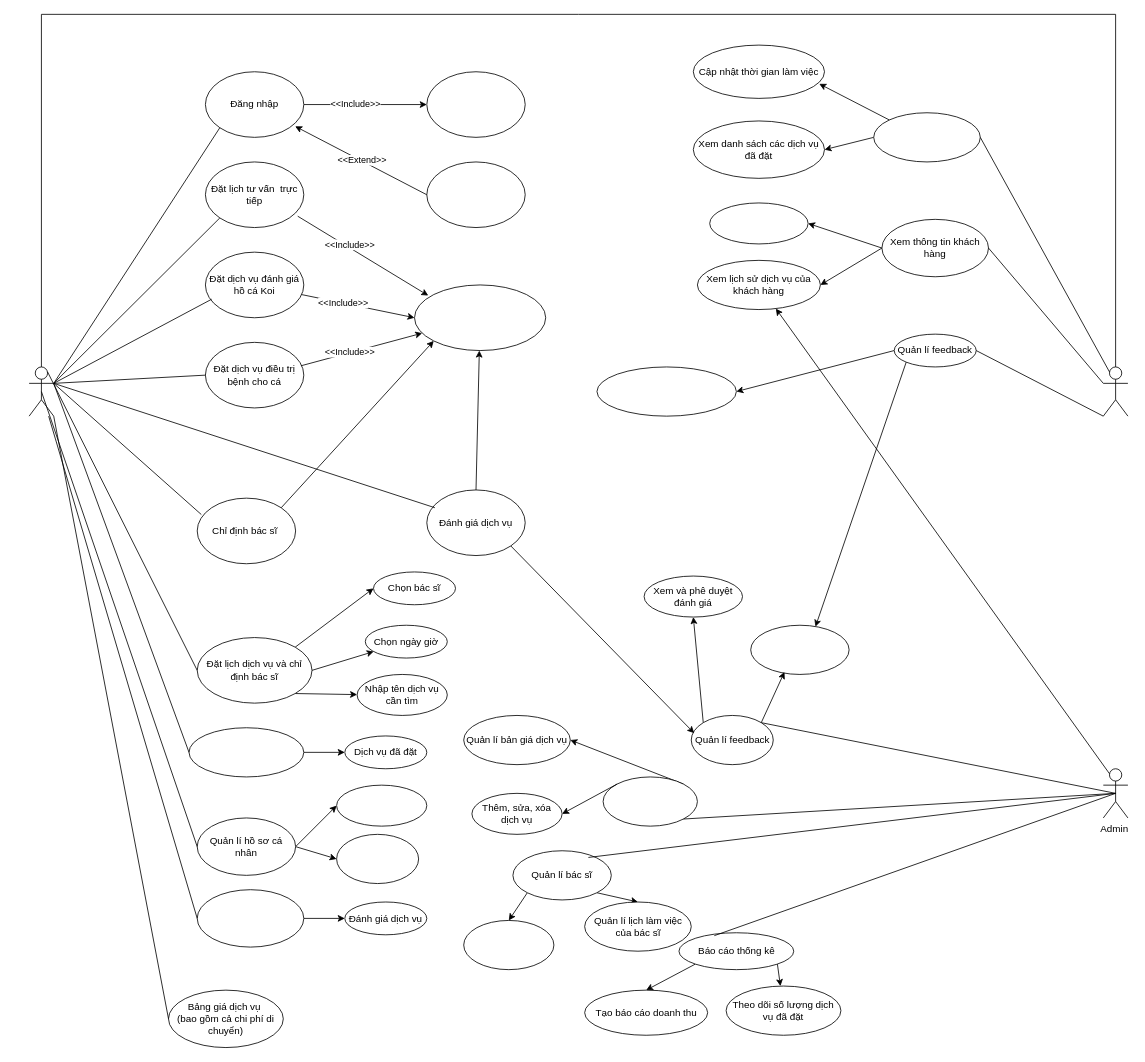
The diagram is 1145 pixels wide and 1062 high, and some of its shapes have lost their labels. The shapes that lost their labels are listed below. From the top down, each one's centre as x and y in pixels, then its label:
At (x=475, y=104): "Kiểm tra tài khoản/ mật khẩu".
At (x=926, y=137): "Quản lí lịch làm việc".
At (x=475, y=194): "Xuất hiện lỗi đăng nhập".
At (x=758, y=223): "Xem hồ sơ khách hàng".
At (x=480, y=317): "Xác nhận thông tin khách hàng".
At (x=41, y=391): "Khách Hàng".
At (x=666, y=391): "Xem đánh giá từ khách hàng".
At (x=1115, y=391): "Bác Sĩ".
At (x=799, y=649): "Trả lời phản hồi từ khách hàng".
At (x=246, y=752): "Lịch sử sử dụng dịch vụ".
At (x=381, y=805): "Xem thông tin tài khoảng".
At (x=649, y=801): "Quản lsi dịch vụ".
At (x=377, y=859): "Cập nhật thông tin cá nhân".
At (x=250, y=918): "Đánh giá và phản hồi".
At (x=508, y=945): "Thêm, sửa, xóa bác sĩ".
